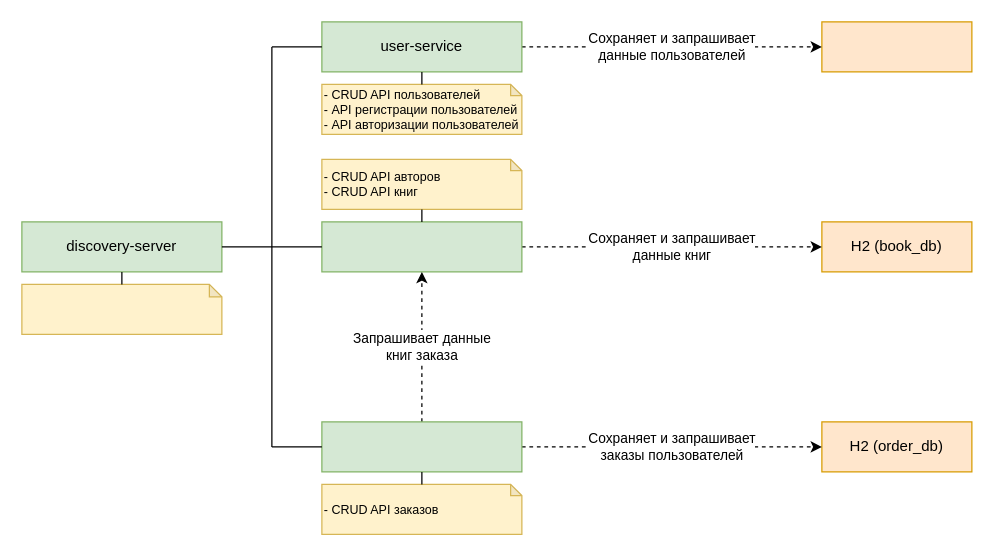
The diagram is 994 pixels wide and 556 high, and some of its shapes have lost their labels. The shapes that lost their labels are listed below. From the top down, each one's box as (x1, y1, x2, y2) in pixels, then its label:
(821, 21, 972, 72): H2 (user_db)
(321, 221, 522, 272): book-service
(21, 283, 222, 334): - Обнаружение сервисов
(321, 421, 522, 472): order-service
